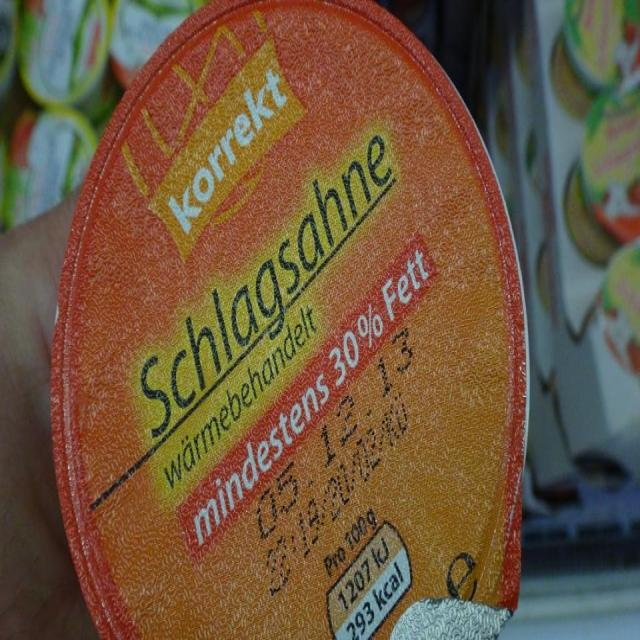Cream: (51, 2, 527, 639)
